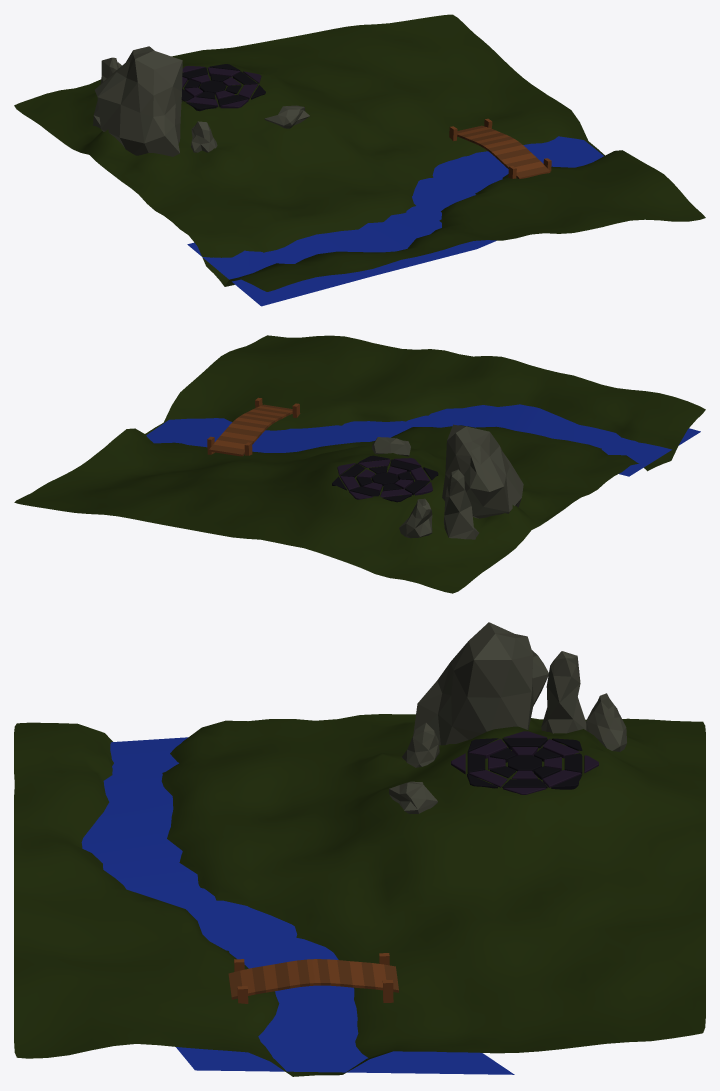
File: environment.obj
3 renders of one model, top to bottom at view 1: azimuth 30°, elevation 25°; view 2: azimuth 150°, elevation 25°; view 3: azimuth 270°, elevation 25°, orthographic. The views are drawn at different scales.
Parts seen in each view (by area): view 1: Ground, River, Rock, Mage_circle, Bridge, Rock5, Rock4; view 2: Ground, River, Rock, Mage_circle, Bridge, Rock2, Rock3, Rock5; view 3: Ground, River, Rock, Mage_circle, Bridge, Rock2, Rock3, Rock4, Rock5.
Boxes of the visible parts, x1,y1,x2,y2 form: Ground: (14, 14, 705, 291); River: (187, 136, 603, 306); Rock: (95, 46, 182, 156); Mage_circle: (181, 64, 265, 111); Bridge: (449, 118, 551, 178); Rock5: (264, 105, 309, 128); Rock4: (191, 121, 217, 152); Ground: (14, 335, 705, 593); River: (146, 404, 700, 476); Rock: (442, 424, 523, 518); Mage_circle: (332, 455, 438, 502); Bridge: (207, 397, 300, 456); Rock2: (443, 469, 478, 539); Rock3: (399, 498, 432, 538); Rock5: (372, 437, 410, 456); Ground: (14, 714, 705, 1076); River: (81, 737, 514, 1074); Rock: (413, 622, 548, 745); Mage_circle: (451, 731, 598, 794); Bridge: (228, 953, 398, 1003); Rock2: (541, 651, 586, 733); Rock3: (586, 693, 626, 751); Rock4: (402, 723, 439, 767); Rock5: (389, 781, 437, 813).
Bounding box in the file's own units: 37.77 × 12.61 × 37.35.
